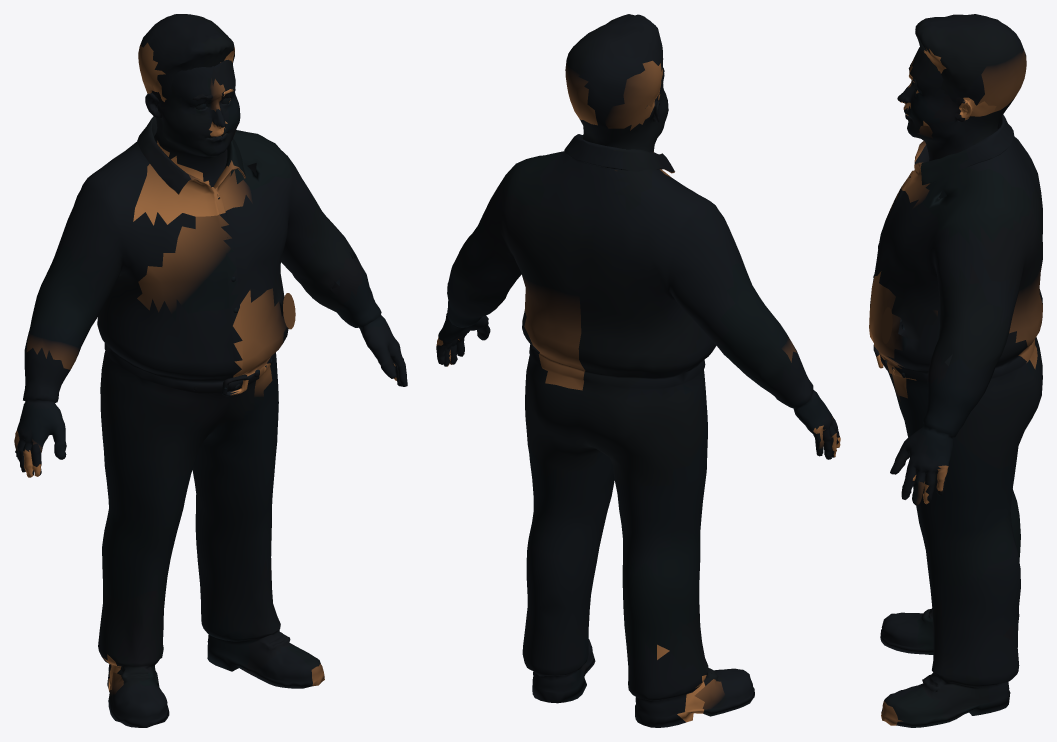
File: AbdullahEkinci_MeshyPro_Unrigged.fbx
3 renders of one model, left to right at view 1: azimuth 30°, elevation 25°; view 2: azimuth 150°, elevation 25°; view 3: azimuth 270°, elevation 25°, orthographic. The views are drawn at different scales.
Visible parts, largest first — view 1: AbdullahEkinci; view 2: AbdullahEkinci; view 3: AbdullahEkinci.
Boxes of the visible parts, <box> form: AbdullahEkinci: <box>14,14,407,727</box>; AbdullahEkinci: <box>436,14,840,727</box>; AbdullahEkinci: <box>869,14,1042,727</box>.
Bounding box in the file's own units: 1.1 × 1.8 × 0.4316.
1 material, 1 textured.
